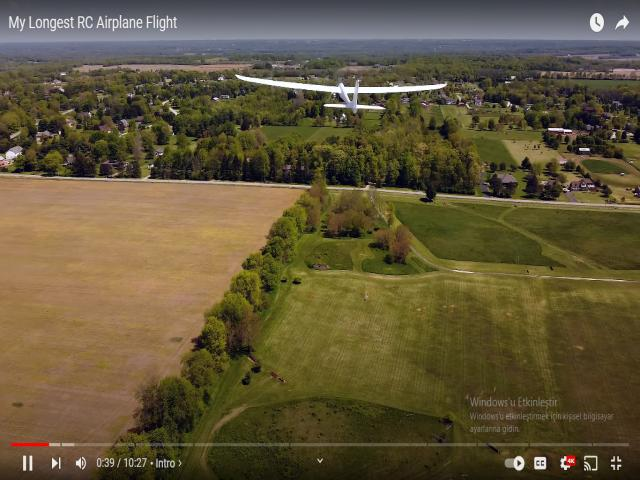plane: (233, 71, 448, 112)
